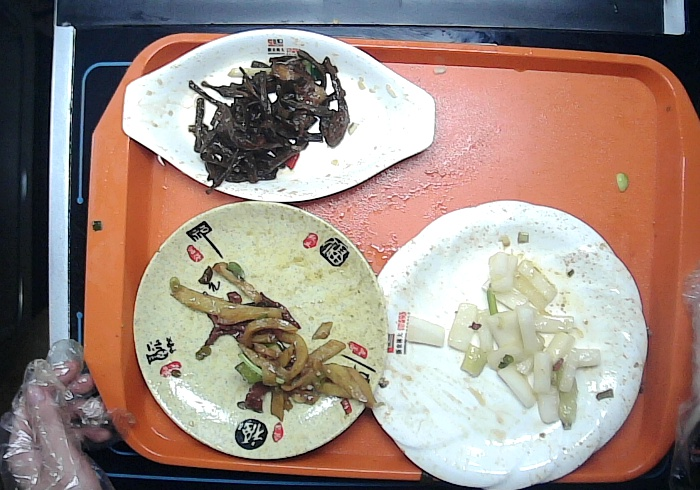NLDX-Bai_Zhe_Yuan_Pan: (365, 195, 650, 490)
NLDX-Fu_Zi_Yuan_Pan: (130, 196, 392, 473)
NLDX-Yu_Pan: (109, 24, 442, 205)
